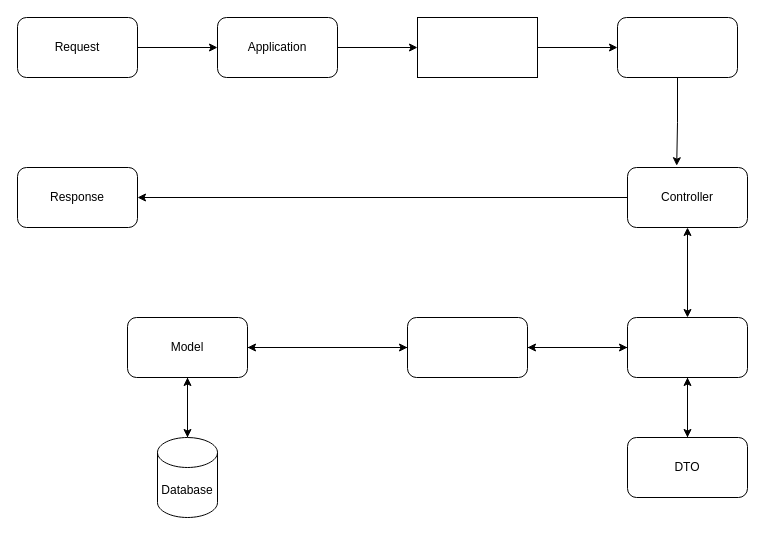
The diagram is 765 pixels wide and 535 high, and some of its shapes have lost their labels. The box of each missing label's shape, as (x1, y1, x2, y2) in pixels:
Filter: (416, 16, 538, 78)
Repository: (626, 316, 748, 378)
Router: (616, 16, 738, 78)
Service: (406, 316, 528, 378)
